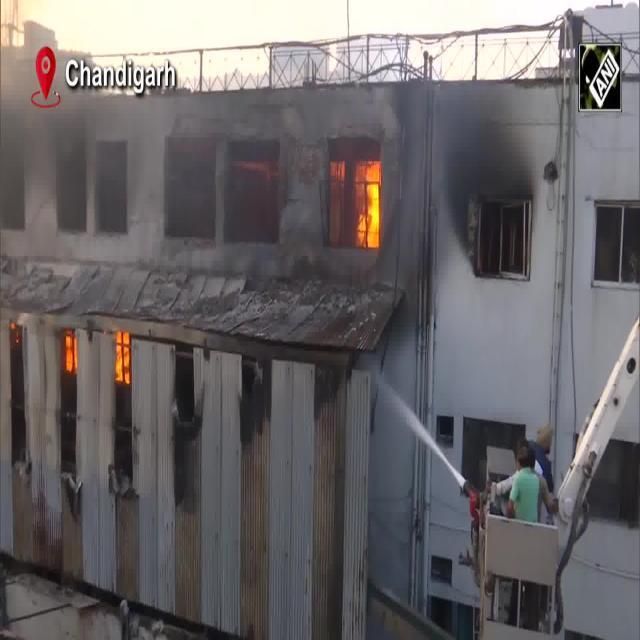Fire: (360, 158, 380, 248), (114, 332, 132, 382), (60, 329, 76, 372)
Smoke: (162, 140, 279, 259)
